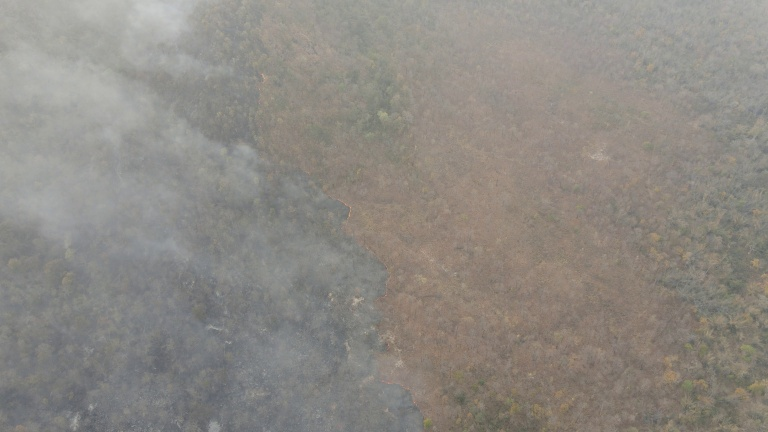smoke: (1, 1, 426, 428)
